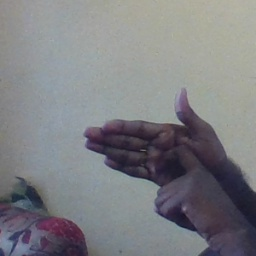R: (78, 88, 236, 223)
